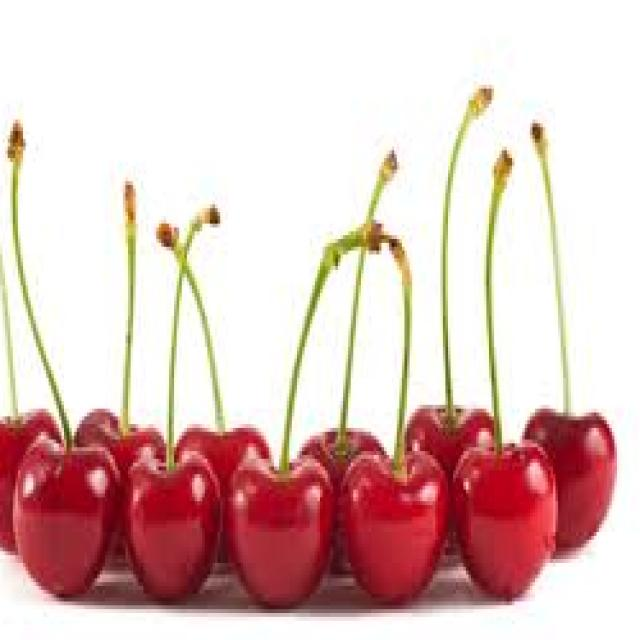cherry: (0, 77, 632, 601)
